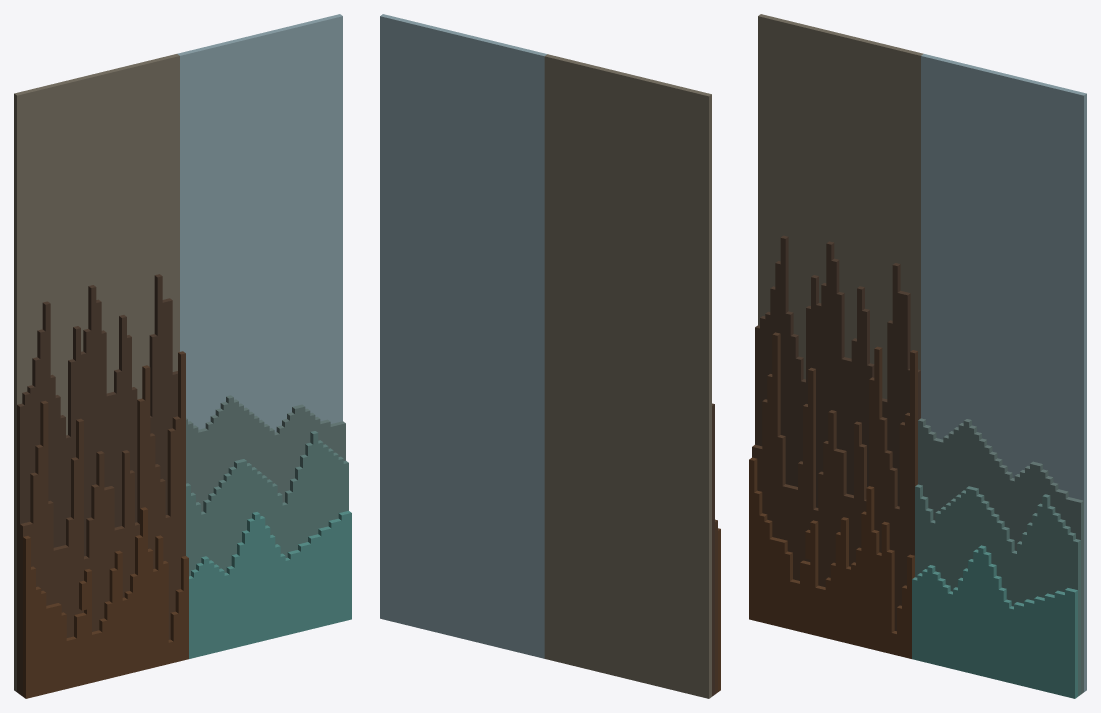
The model's file is scene_penguinInArticOrInDesert.glb.
3 views of the same model, side by side, from view 1: azimuth 30°, elevation 25°; view 2: azimuth 150°, elevation 25°; view 3: azimuth 330°, elevation 25° (orthographic).
Visible parts, largest first — view 1: scene_penguinInArticOrInDesert_16, scene_penguinInArticOrInDesert_17, scene_penguinInArticOrInDesert_11, scene_penguinInArticOrInDesert_18, scene_penguinInArticOrInDesert_13, scene_penguinInArticOrInDesert_14, scene_penguinInArticOrInDesert_15, scene_penguinInArticOrInDesert_12; view 2: scene_penguinInArticOrInDesert_17, scene_penguinInArticOrInDesert_16, scene_penguinInArticOrInDesert_11; view 3: scene_penguinInArticOrInDesert_16, scene_penguinInArticOrInDesert_17, scene_penguinInArticOrInDesert_11, scene_penguinInArticOrInDesert_18, scene_penguinInArticOrInDesert_13, scene_penguinInArticOrInDesert_14, scene_penguinInArticOrInDesert_15, scene_penguinInArticOrInDesert_12.
Boxes of the visible parts, box(x1,y1,x2,y2) form: scene_penguinInArticOrInDesert_16: box(177, 14, 342, 432); scene_penguinInArticOrInDesert_17: box(14, 54, 179, 691); scene_penguinInArticOrInDesert_11: box(17, 274, 177, 694); scene_penguinInArticOrInDesert_18: box(20, 351, 185, 696); scene_penguinInArticOrInDesert_13: box(23, 507, 188, 698); scene_penguinInArticOrInDesert_14: box(189, 511, 351, 658); scene_penguinInArticOrInDesert_15: box(186, 431, 348, 576); scene_penguinInArticOrInDesert_12: box(186, 395, 345, 511); scene_penguinInArticOrInDesert_17: box(544, 54, 711, 698); scene_penguinInArticOrInDesert_16: box(380, 14, 546, 658); scene_penguinInArticOrInDesert_11: box(712, 403, 714, 696); scene_penguinInArticOrInDesert_16: box(921, 54, 1086, 691); scene_penguinInArticOrInDesert_17: box(758, 14, 923, 399); scene_penguinInArticOrInDesert_11: box(755, 235, 920, 507); scene_penguinInArticOrInDesert_18: box(752, 332, 917, 631); scene_penguinInArticOrInDesert_13: box(749, 457, 914, 658); scene_penguinInArticOrInDesert_14: box(912, 545, 1077, 698); scene_penguinInArticOrInDesert_15: box(915, 484, 1080, 696); scene_penguinInArticOrInDesert_12: box(918, 418, 1083, 694).
Bounding box in the file's own units: 6.4 × 11.2 × 0.4.
Materials: 1 (1 with a texture image).
